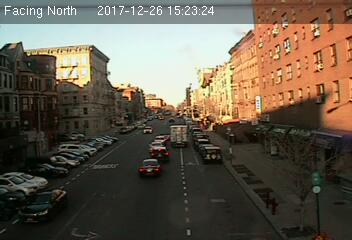car: (16, 188, 68, 222), (138, 159, 161, 177), (202, 146, 222, 163), (149, 147, 170, 162)
truck: (170, 125, 188, 149)
